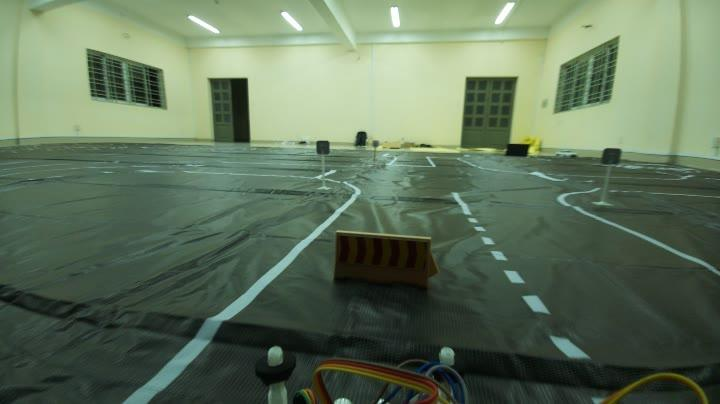roadblock: (332, 226, 447, 300)
